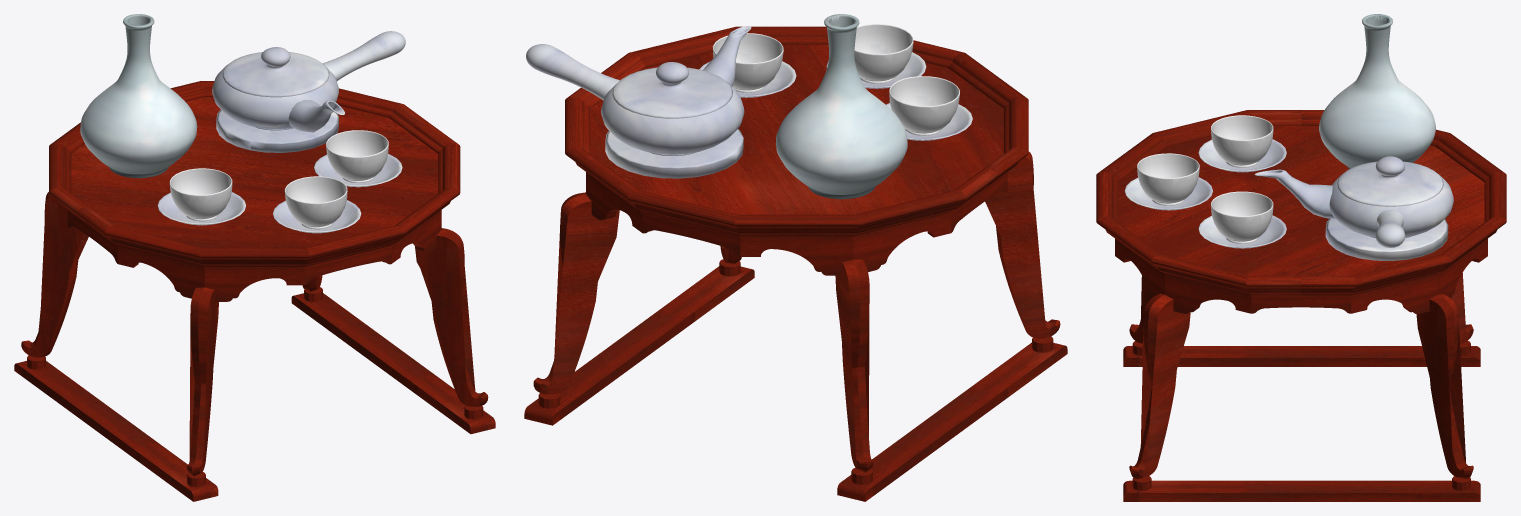
File: Table.FBX
The picture shows the model from 3 angles, left to right: view 1: azimuth 30°, elevation 25°; view 2: azimuth 150°, elevation 25°; view 3: azimuth 270°, elevation 25°; orthographic projection. The views are drawn at different scales.
Visible parts, largest first — view 1: Table; view 2: Table; view 3: Table.
Part boxes in pixels (x1=…): Table: x1=14, y1=14, x2=495, y2=501; Table: x1=524, y1=14, x2=1067, y2=501; Table: x1=1096, y1=14, x2=1506, y2=501.
Bounding box in the file's own units: 53.39 × 50.87 × 51.12.
